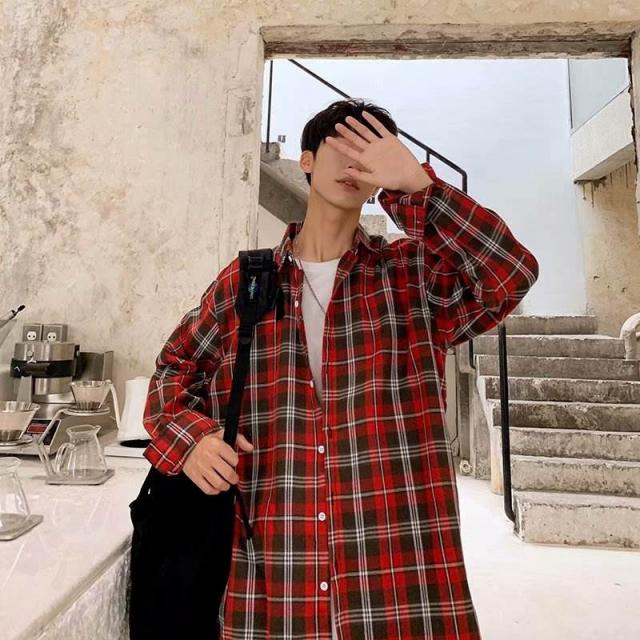plaid: (140, 203, 538, 640)
